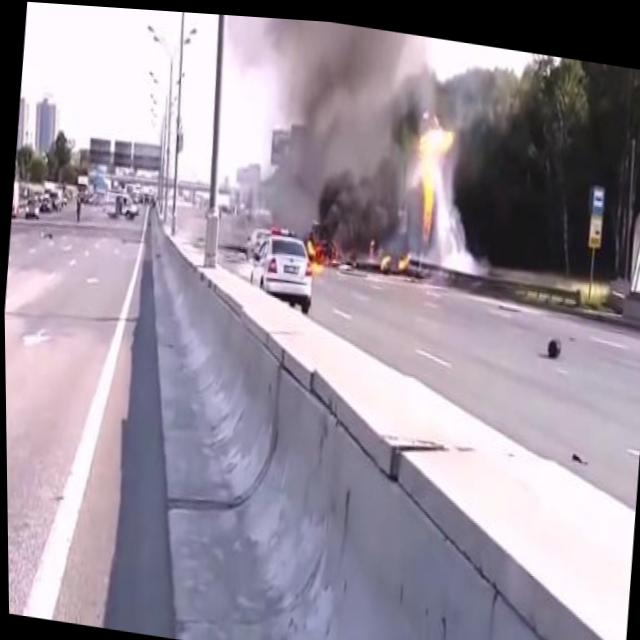fire: (409, 116, 455, 244), (304, 231, 340, 272), (379, 239, 413, 269)
